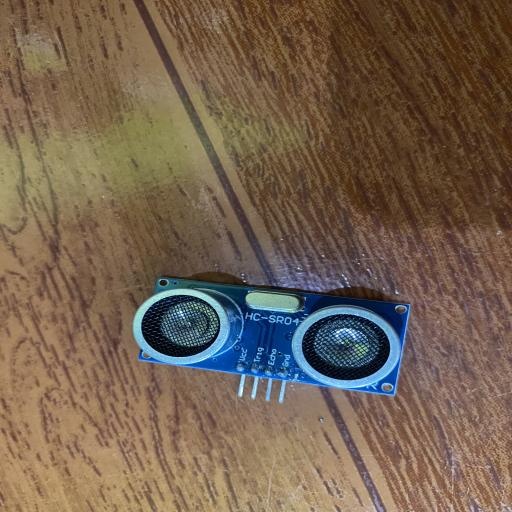Ultrasonic Sensor: (132, 276, 410, 405)
